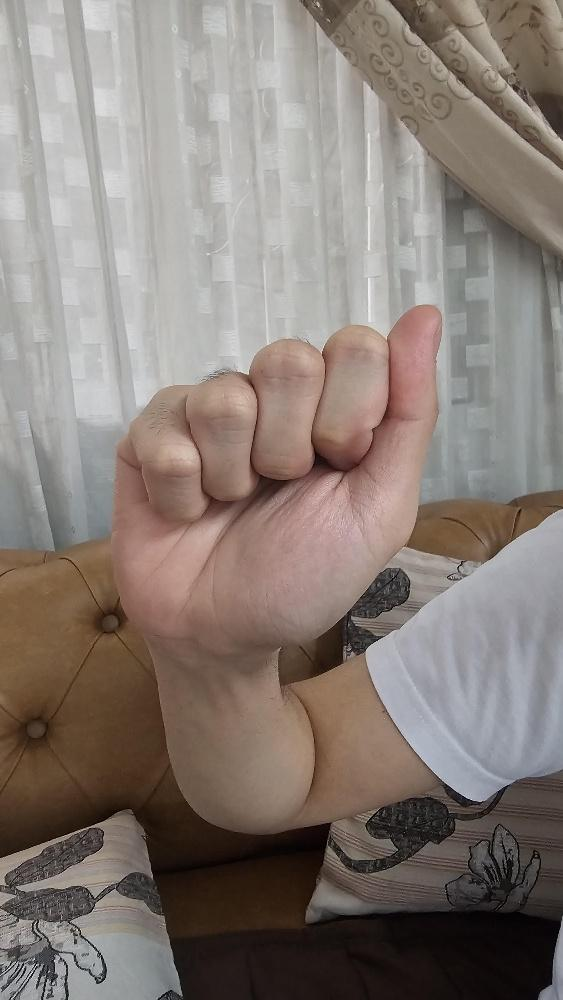a: (108, 301, 445, 640)
